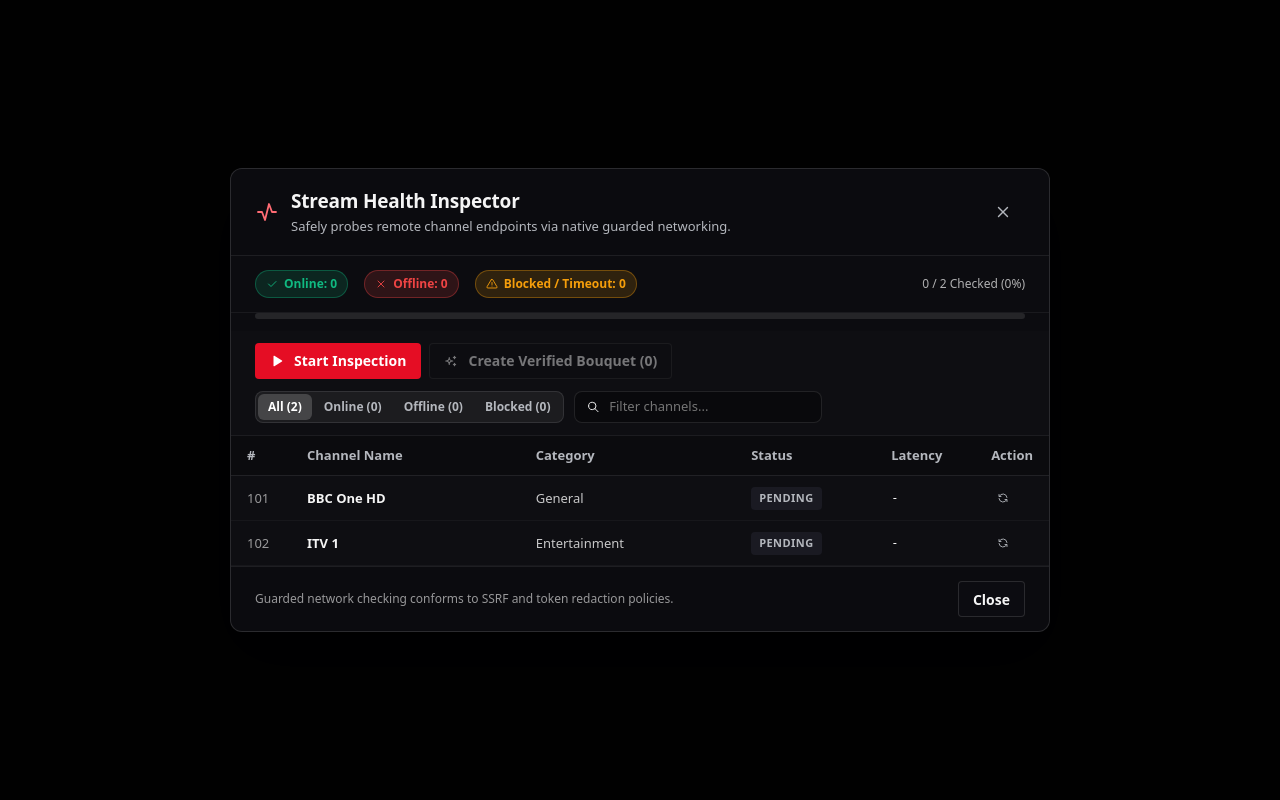
Test case: StreamCheckerModal › starts inspection and updates results when native checks resolve
The image size is (1280, 800).
Click the button "Start Inspection" at (338, 361), box [255,343,422,379]
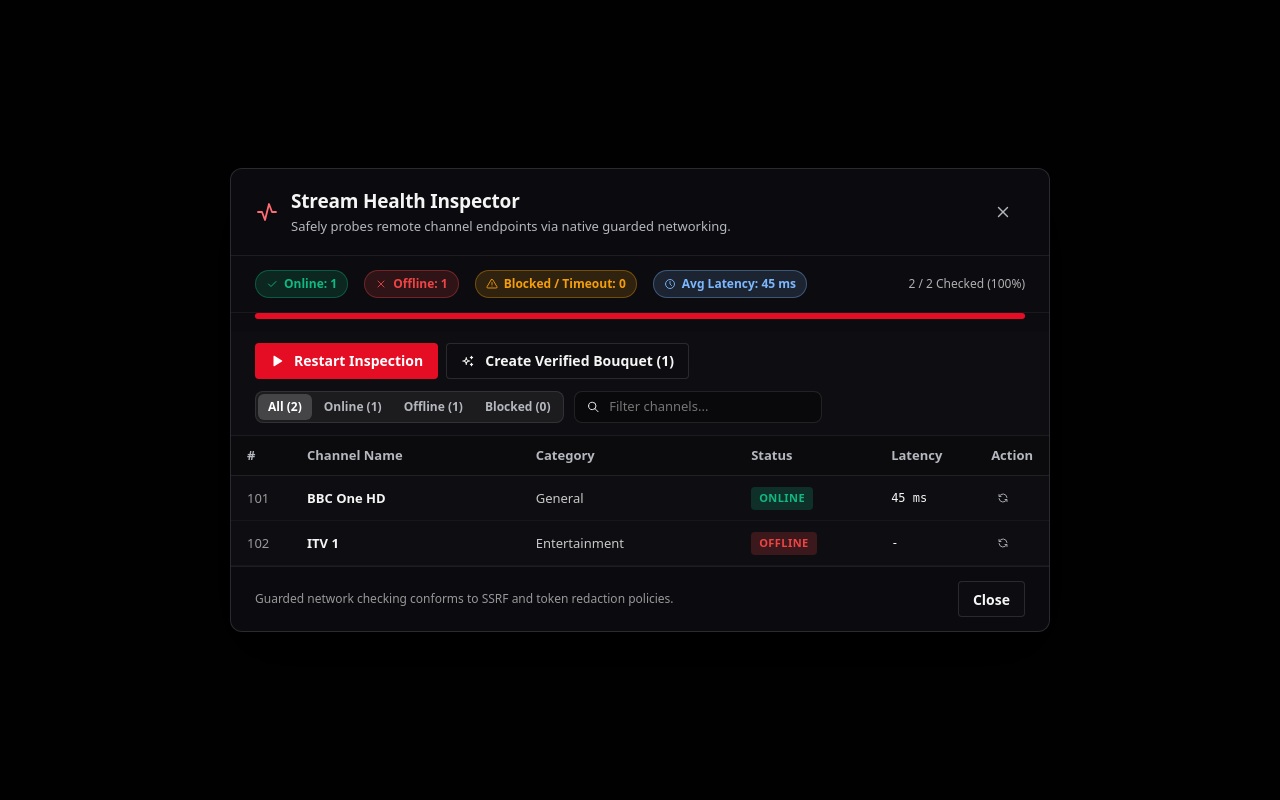
Result: the element with class "online" reads "Online: 1" at [255,270,348,298]
Result: the element with class "offline" reads "Offline: 1" at [364,270,459,298]
